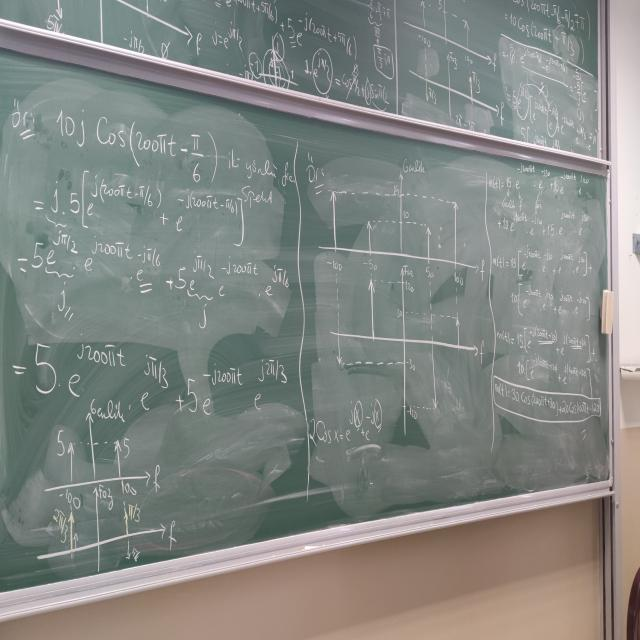image: (302, 133, 489, 442)
math: (1, 59, 304, 429), (488, 157, 603, 430)
